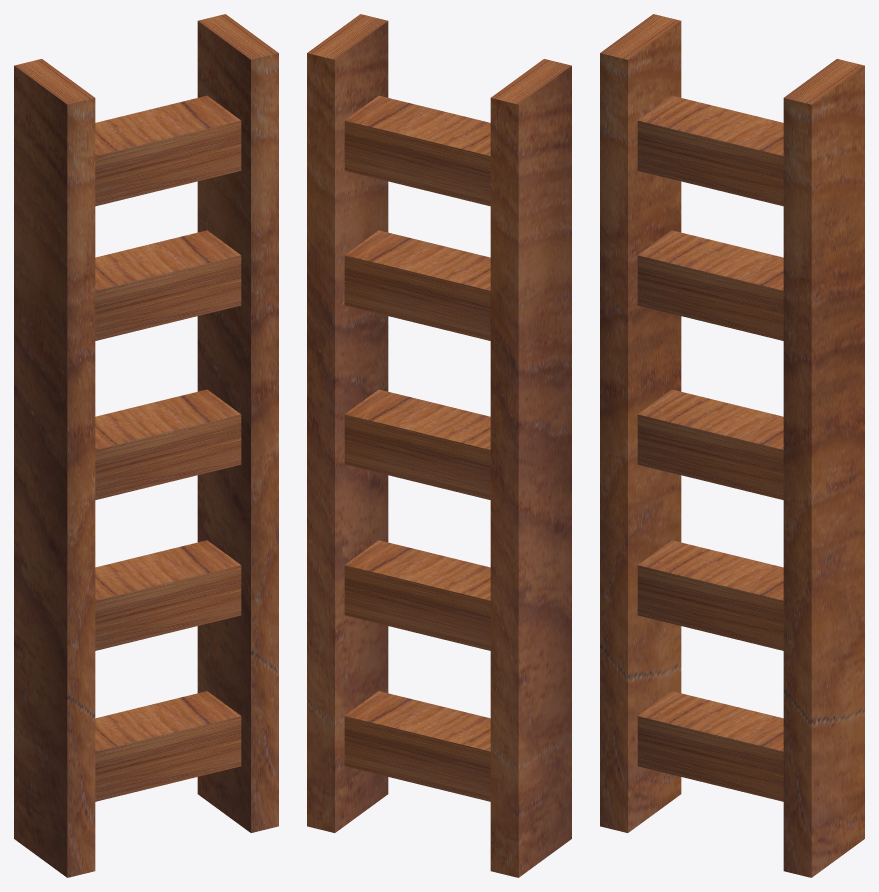
File: ladder.fbx
The picture shows the model from 3 angles, left to right: view 1: azimuth 30°, elevation 25°; view 2: azimuth 150°, elevation 25°; view 3: azimuth 330°, elevation 25°; orthographic projection.
Parts seen in each view (by area): view 1: Cube, Cube.001, Cube.004, Cube.002, Cube.005, Cube.003, Cube.006; view 2: Cube, Cube.001, Cube.004, Cube.002, Cube.005, Cube.003, Cube.006; view 3: Cube.001, Cube, Cube.002, Cube.004, Cube.005, Cube.003, Cube.006.
Boxes of the visible parts, box(x1,y1,x2,y2) form: Cube: box(14, 59, 95, 877); Cube.001: box(197, 14, 278, 832); Cube.004: box(95, 95, 241, 206); Cube.002: box(95, 389, 241, 499); Cube.005: box(95, 540, 241, 650); Cube.003: box(95, 230, 241, 340); Cube.006: box(95, 691, 241, 801); Cube: box(490, 59, 571, 877); Cube.001: box(307, 14, 388, 832); Cube.004: box(344, 95, 490, 206); Cube.002: box(344, 389, 490, 499); Cube.005: box(344, 540, 490, 650); Cube.003: box(344, 230, 490, 340); Cube.006: box(344, 691, 490, 801); Cube.001: box(783, 59, 864, 877); Cube: box(600, 14, 681, 832); Cube.002: box(637, 389, 783, 499); Cube.004: box(637, 95, 783, 206); Cube.005: box(637, 540, 783, 650); Cube.003: box(637, 230, 783, 340); Cube.006: box(637, 691, 783, 801).
Size of the model in its own units: 304 by 1061 by 133.
